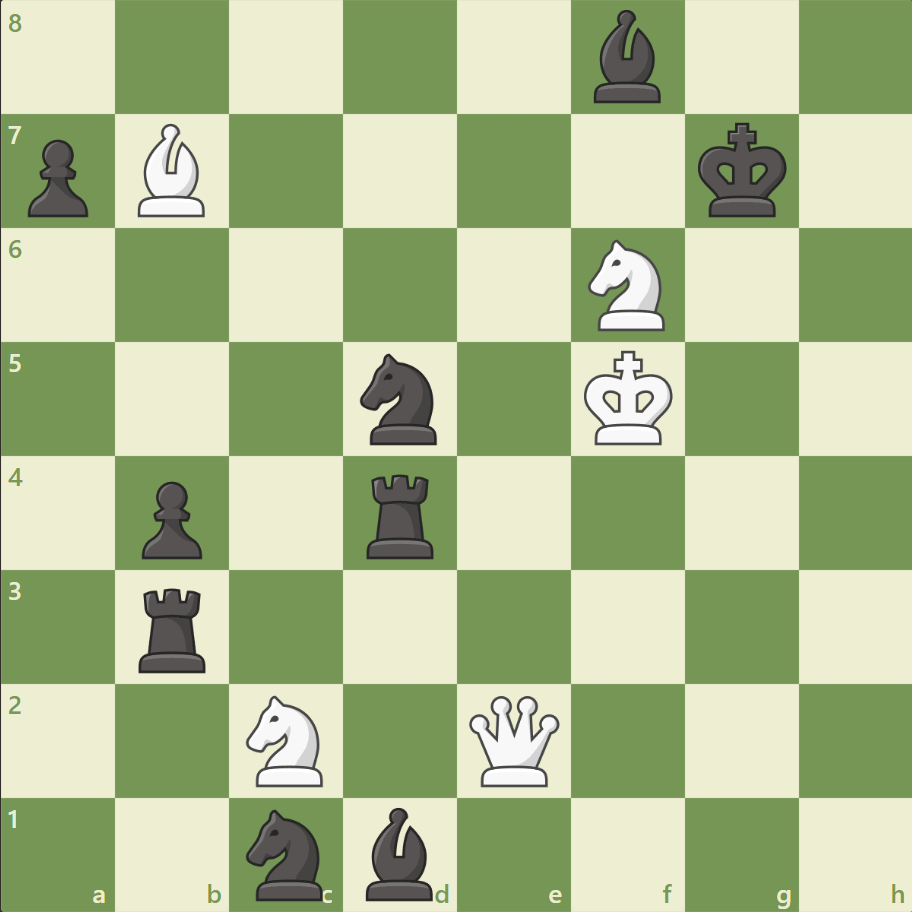B: (131, 120, 215, 222)
K: (579, 344, 679, 452)
N: (579, 234, 676, 337), (238, 688, 335, 791)
Q: (464, 690, 563, 789)
b: (585, 6, 669, 109), (358, 801, 442, 904)
k: (692, 117, 792, 225)
n: (351, 348, 449, 450), (238, 802, 335, 904)
p: (20, 132, 95, 223), (133, 473, 208, 564)
r: (360, 466, 442, 563), (133, 579, 215, 676)
